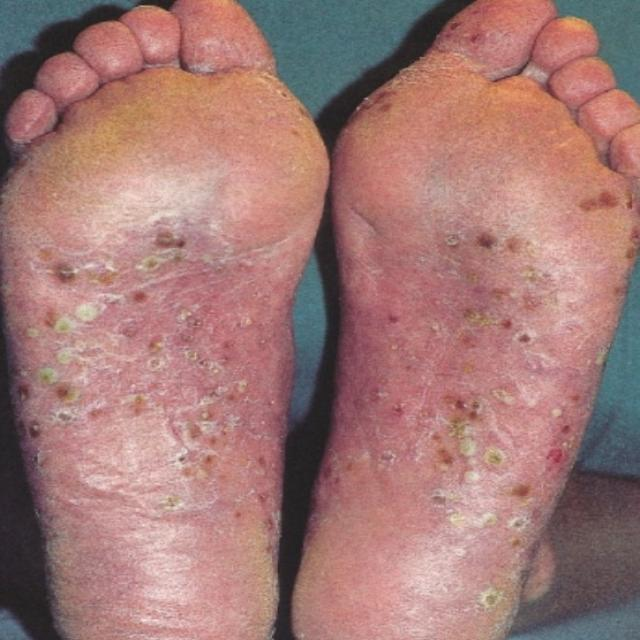Psoriasis Pustulosa: (293, 0, 639, 639), (0, 0, 327, 639)
